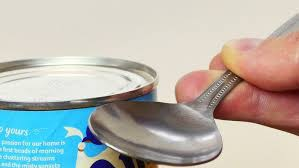can: (1, 48, 163, 168)
